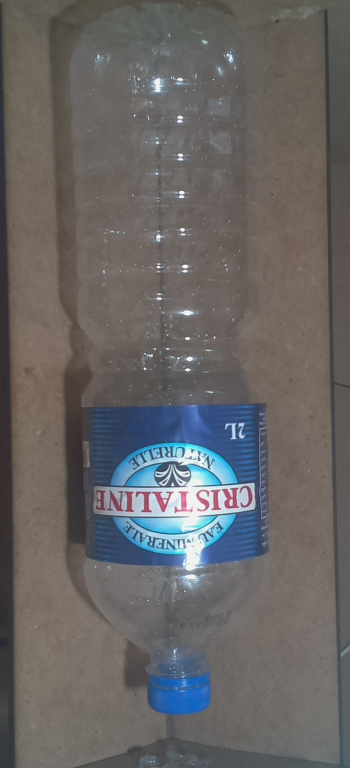Bouteille_2L: (62, 2, 283, 720)
